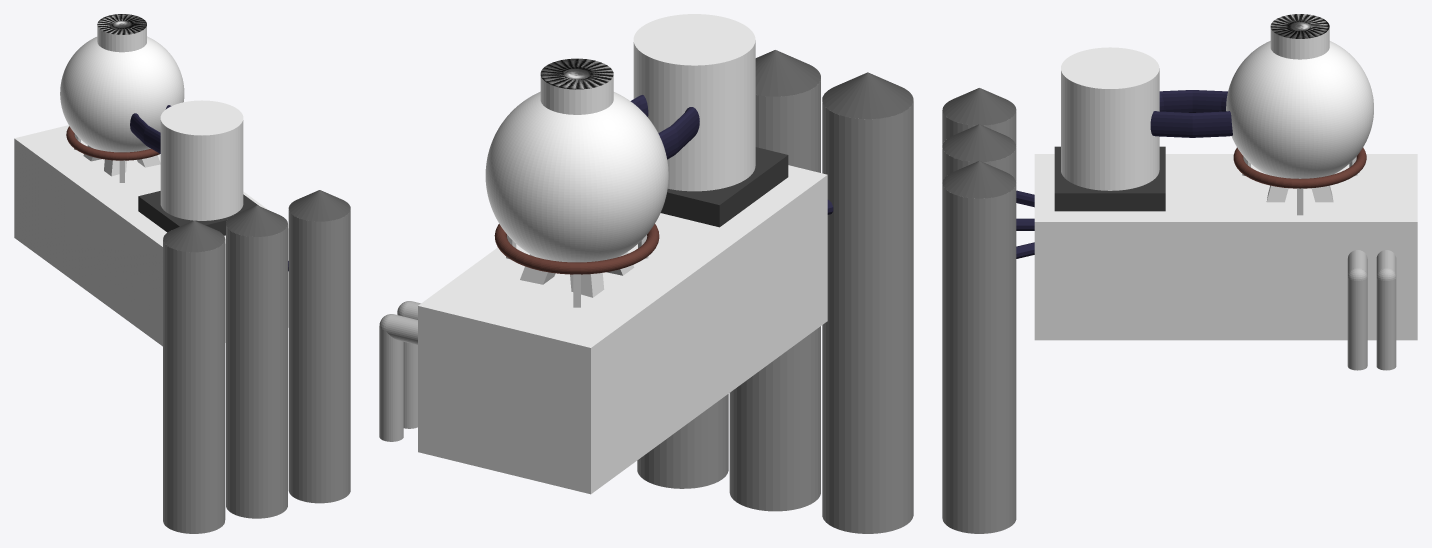
Rendered from steam_turbine.glb.
3 views of the same model, side by side, from view 1: azimuth 30°, elevation 25°; view 2: azimuth 150°, elevation 25°; view 3: azimuth 270°, elevation 25° (orthographic). The views are drawn at different scales.
Visible parts, largest first — view 1: Cube, Cylinder.004, Cylinder.003, Cylinder.002, Sphere, Cylinder, Cylinder.001, Cube.001, Cone, Cone.001, Cone.002, Torus.001 (+1 smaller); view 2: Cube, Cylinder.003, Sphere, Cylinder.002, Cylinder, Cylinder.004, Cube.001, Cylinder.001, Cone.001, Cylinder.008, Torus.001, Cone.002 (+3 smaller); view 3: Cube, Cylinder.004, Sphere, Cylinder, Torus, Cube.001, Cylinder.001, Cone, Cone.001, Cone.002, Cylinder.011, Cylinder.008 (+3 smaller).
Part boxes in pixels (<box>): Cube: <box>14,125,288,346</box>; Cylinder.004: <box>288,203,350,503</box>; Cylinder.003: <box>163,239,225,533</box>; Cylinder.002: <box>226,215,287,518</box>; Sphere: <box>60,36,184,152</box>; Cylinder: <box>160,100,243,220</box>; Cylinder.001: <box>97,14,146,52</box>; Cube.001: <box>138,191,258,235</box>; Cone: <box>288,190,350,221</box>; Cone.001: <box>163,220,224,252</box>; Cone.002: <box>226,205,287,236</box>; Torus.001: <box>66,126,159,160</box>; Cube: <box>418,165,827,494</box>; Cylinder.003: <box>822,92,913,533</box>; Sphere: <box>485,91,668,262</box>; Cylinder.002: <box>729,67,820,511</box>; Cylinder: <box>633,14,755,191</box>; Cylinder.004: <box>637,394,728,488</box>; Cube.001: <box>660,147,788,227</box>; Cylinder.001: <box>540,58,613,114</box>; Cone.001: <box>822,72,913,119</box>; Cylinder.008: <box>379,327,403,441</box>; Torus.001: <box>494,224,659,274</box>; Cone.002: <box>755,50,820,96</box>; Cube: <box>1034,154,1417,340</box>; Cylinder.004: <box>942,183,1016,533</box>; Sphere: <box>1226,41,1373,178</box>; Cylinder: <box>1061,47,1159,190</box>; Torus: <box>1150,90,1232,137</box>; Cube.001: <box>1054,146,1165,211</box>; Cylinder.001: <box>1270,14,1329,59</box>; Cone: <box>942,160,1016,198</box>; Cone.001: <box>942,88,1016,125</box>; Cone.002: <box>942,124,1016,161</box>; Cylinder.011: <box>1347,277,1367,370</box>; Cylinder.008: <box>1376,278,1396,370</box>.
Size of what is drawn, in the model's own units: 10.4 by 20.37 by 19.26.
Materials: 11 (1 with a texture image).
